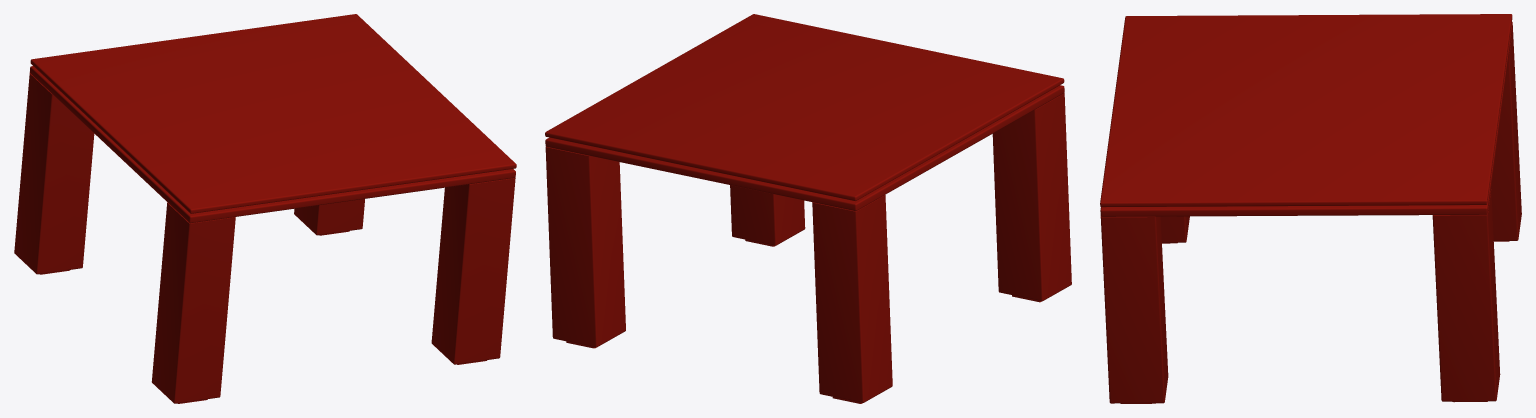
The model's file is MEJA.fbx.
3 views of the same model, side by side, from view 1: azimuth 30°, elevation 25°; view 2: azimuth 150°, elevation 25°; view 3: azimuth 270°, elevation 25° (orthographic). The views are drawn at different scales.
Visible parts, largest first — view 1: Mesh_0; view 2: Mesh_0; view 3: Mesh_0.
Part boxes in pixels (x1,y1,x2,y2): Mesh_0: (14, 14, 516, 403); Mesh_0: (545, 14, 1071, 403); Mesh_0: (1100, 14, 1521, 403).
Size of the model in its own units: 385 by 247 by 380.
